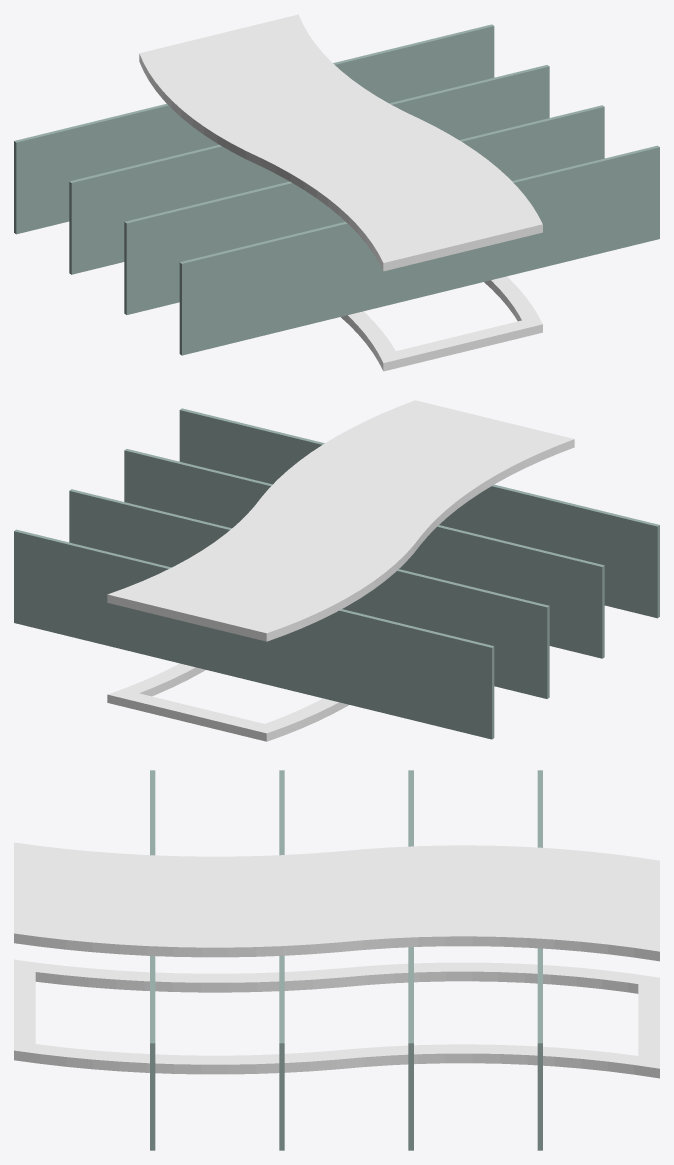
3 views of the same model, one above another, from view 1: azimuth 30°, elevation 25°; view 2: azimuth 150°, elevation 25°; view 3: azimuth 270°, elevation 25° (orthographic). The views are drawn at different scales.
Visible parts, largest first — view 1: curved display shelf; view 2: curved display shelf; view 3: curved display shelf.
Part boxes in pixels (bbox=[...]): curved display shelf: bbox=[14, 14, 659, 371]; curved display shelf: bbox=[14, 400, 659, 741]; curved display shelf: bbox=[14, 770, 659, 1150].
Bounding box in the file's own units: 60 × 13 × 60.
